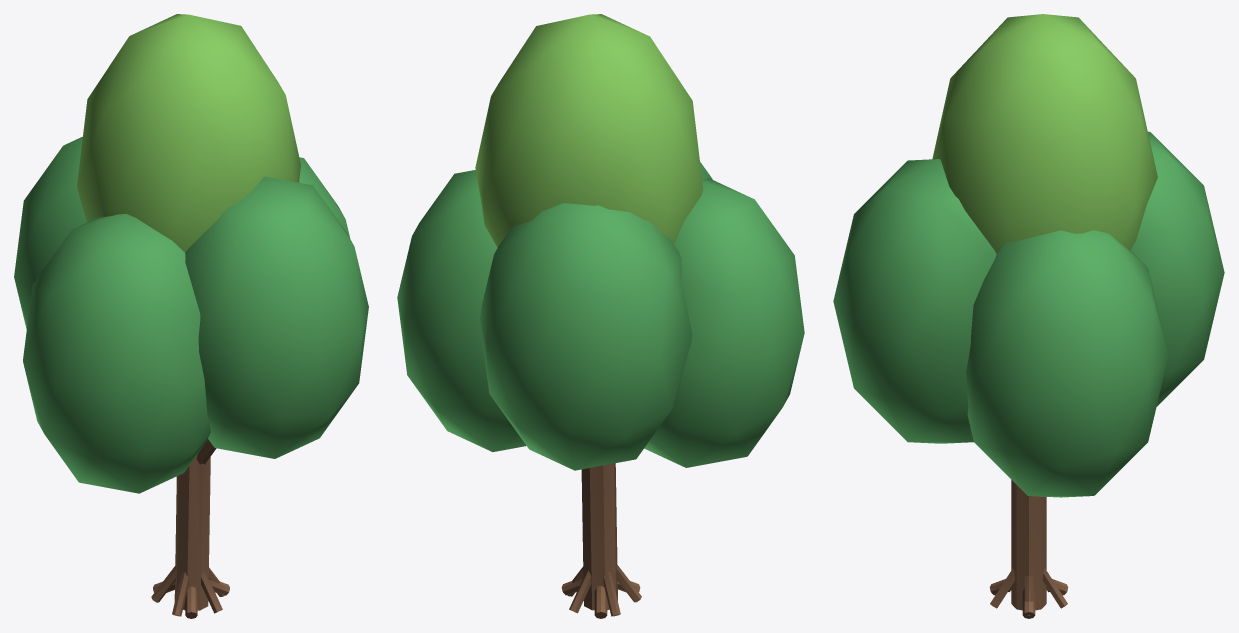
The model's file is tree-maple-low.glb.
The picture shows the model from 3 angles, left to right: view 1: azimuth 30°, elevation 25°; view 2: azimuth 150°, elevation 25°; view 3: azimuth 270°, elevation 25°; orthographic projection.
Parts seen in each view (by area): view 1: rounded crown, rounded crown.004, branch; view 2: rounded crown, rounded crown.004, branch; view 3: rounded crown, rounded crown.004, branch.
Part boxes in pixels (left/top/right/bottom): rounded crown: left=14, top=136, right=368, bottom=493; rounded crown.004: left=77, top=14, right=300, bottom=252; branch: left=151, top=439, right=229, bottom=618; rounded crown: left=397, top=162, right=804, bottom=470; rounded crown.004: left=475, top=14, right=703, bottom=247; branch: left=561, top=463, right=641, bottom=618; rounded crown: left=833, top=131, right=1224, bottom=497; rounded crown.004: left=932, top=14, right=1157, bottom=253; branch: left=989, top=480, right=1068, bottom=618.
Bounding box in the file's own units: 2.23 × 3.7 × 2.22.
